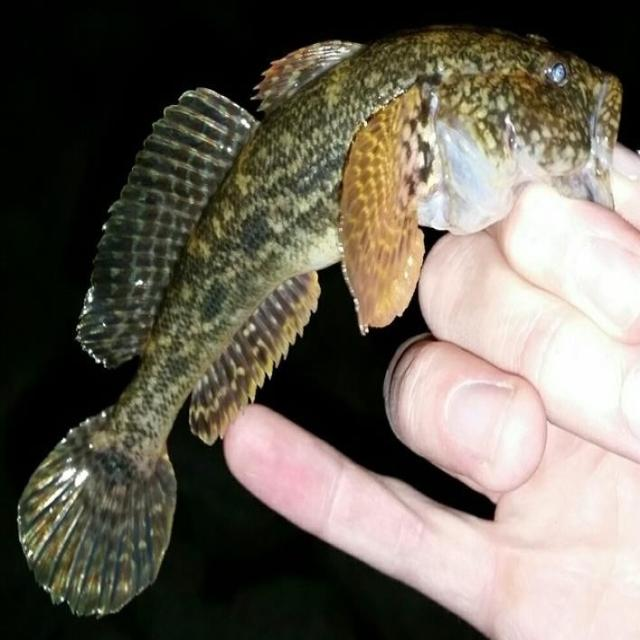Goby: (0, 0, 639, 598)
